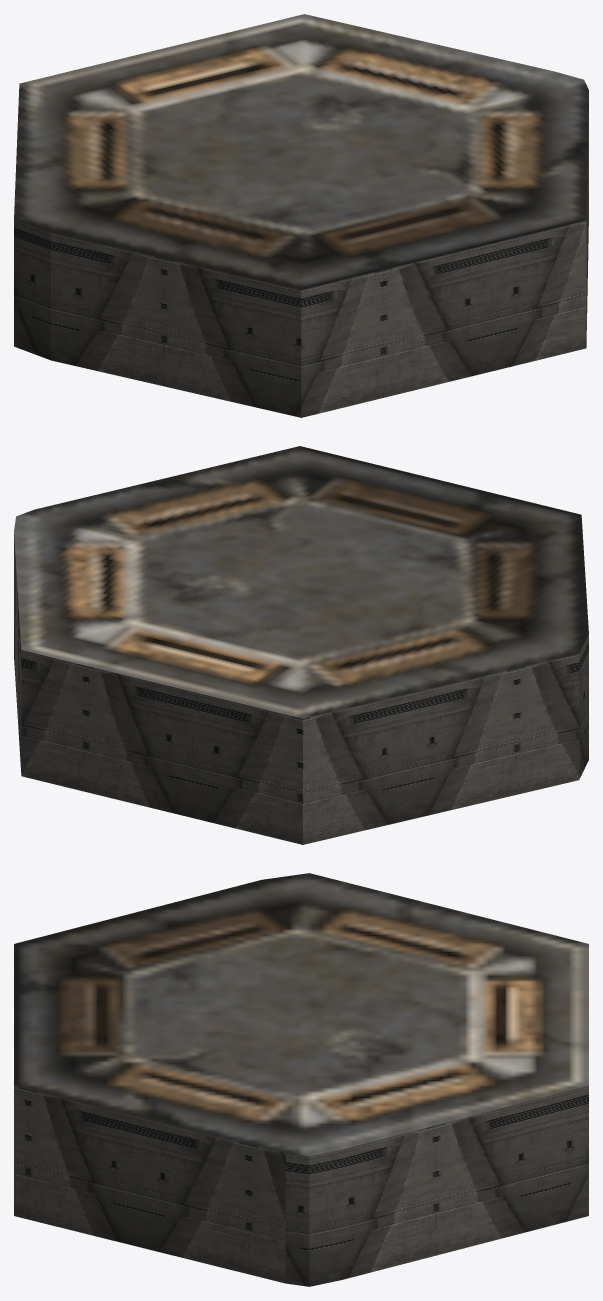
Rendered from fortress_light_a_00.glb.
3 views of the same model, one above another, from view 1: azimuth 30°, elevation 25°; view 2: azimuth 150°, elevation 25°; view 3: azimuth 270°, elevation 25° (orthographic). The views are drawn at different scales.
Parts seen in each view (by area): view 1: buildings/saxarba/fortress_light/fortress_light_a_00; view 2: buildings/saxarba/fortress_light/fortress_light_a_00; view 3: buildings/saxarba/fortress_light/fortress_light_a_00.
Part boxes in pixels (left/top/right/bottom): buildings/saxarba/fortress_light/fortress_light_a_00: left=14, top=14, right=588, bottom=417; buildings/saxarba/fortress_light/fortress_light_a_00: left=14, top=446, right=588, bottom=844; buildings/saxarba/fortress_light/fortress_light_a_00: left=14, top=873, right=588, bottom=1286.
Size of the model in its own units: 84 by 18 by 72.
